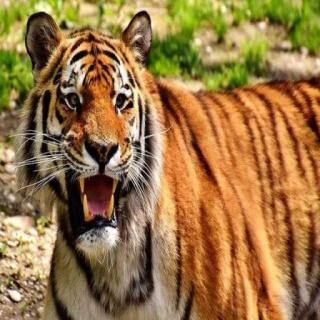Tiger: (18, 3, 320, 320)
